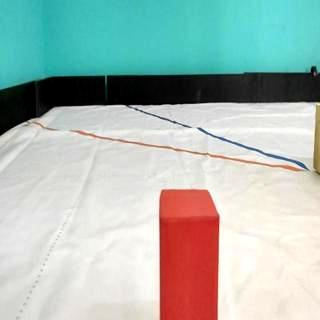redbox: (160, 190, 219, 320)
